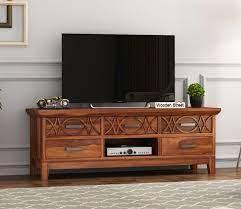TV: (57, 26, 193, 111)
console: (27, 108, 230, 184)
